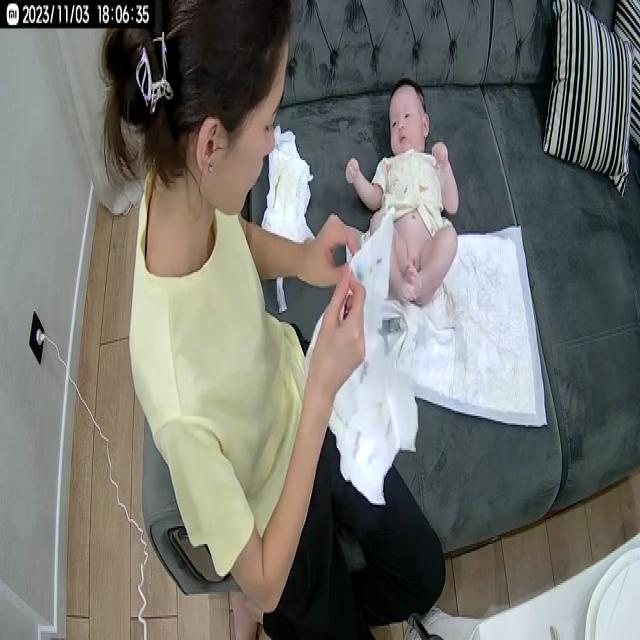baby: (336, 73, 464, 315)
